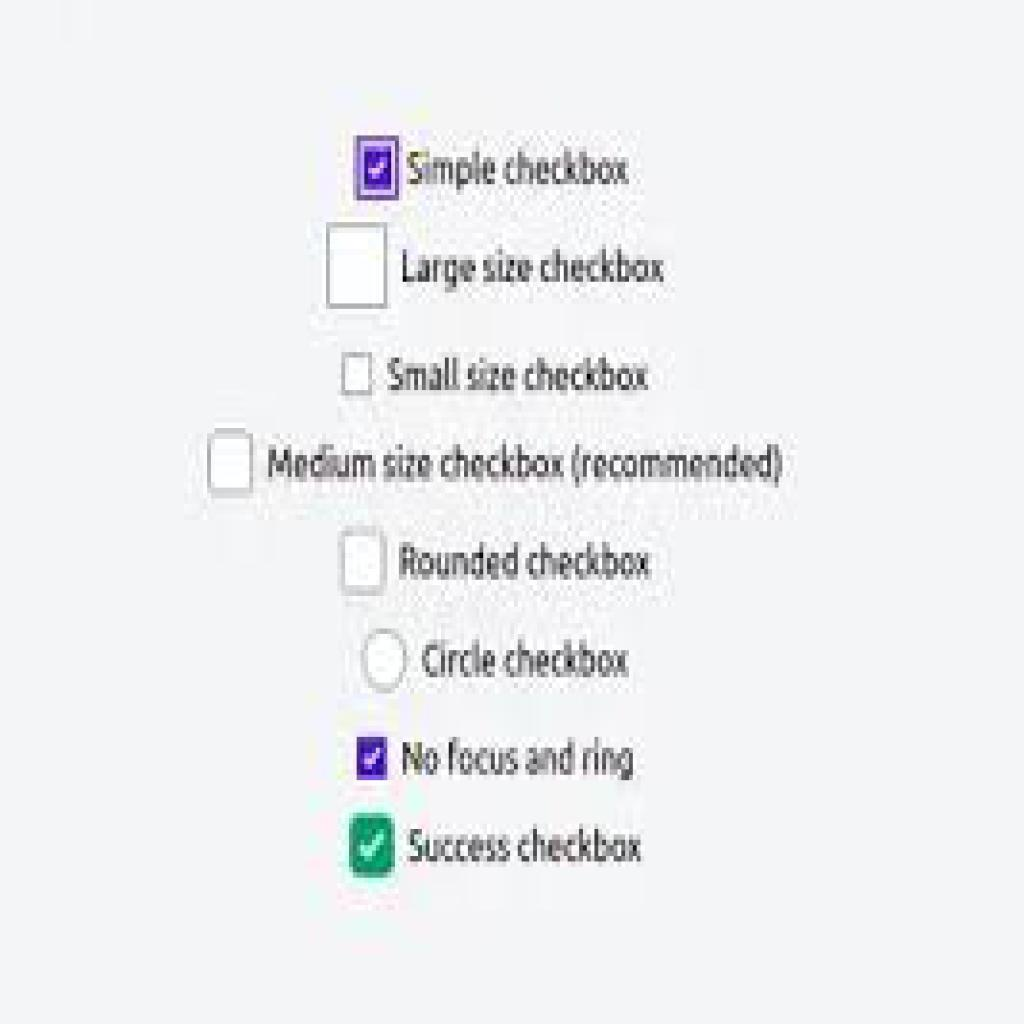checkbox: (322, 220, 392, 312), (339, 521, 390, 600), (350, 132, 403, 206), (205, 427, 258, 501), (345, 811, 398, 881), (338, 349, 379, 399), (354, 734, 391, 784)
radio: (358, 622, 412, 699)
